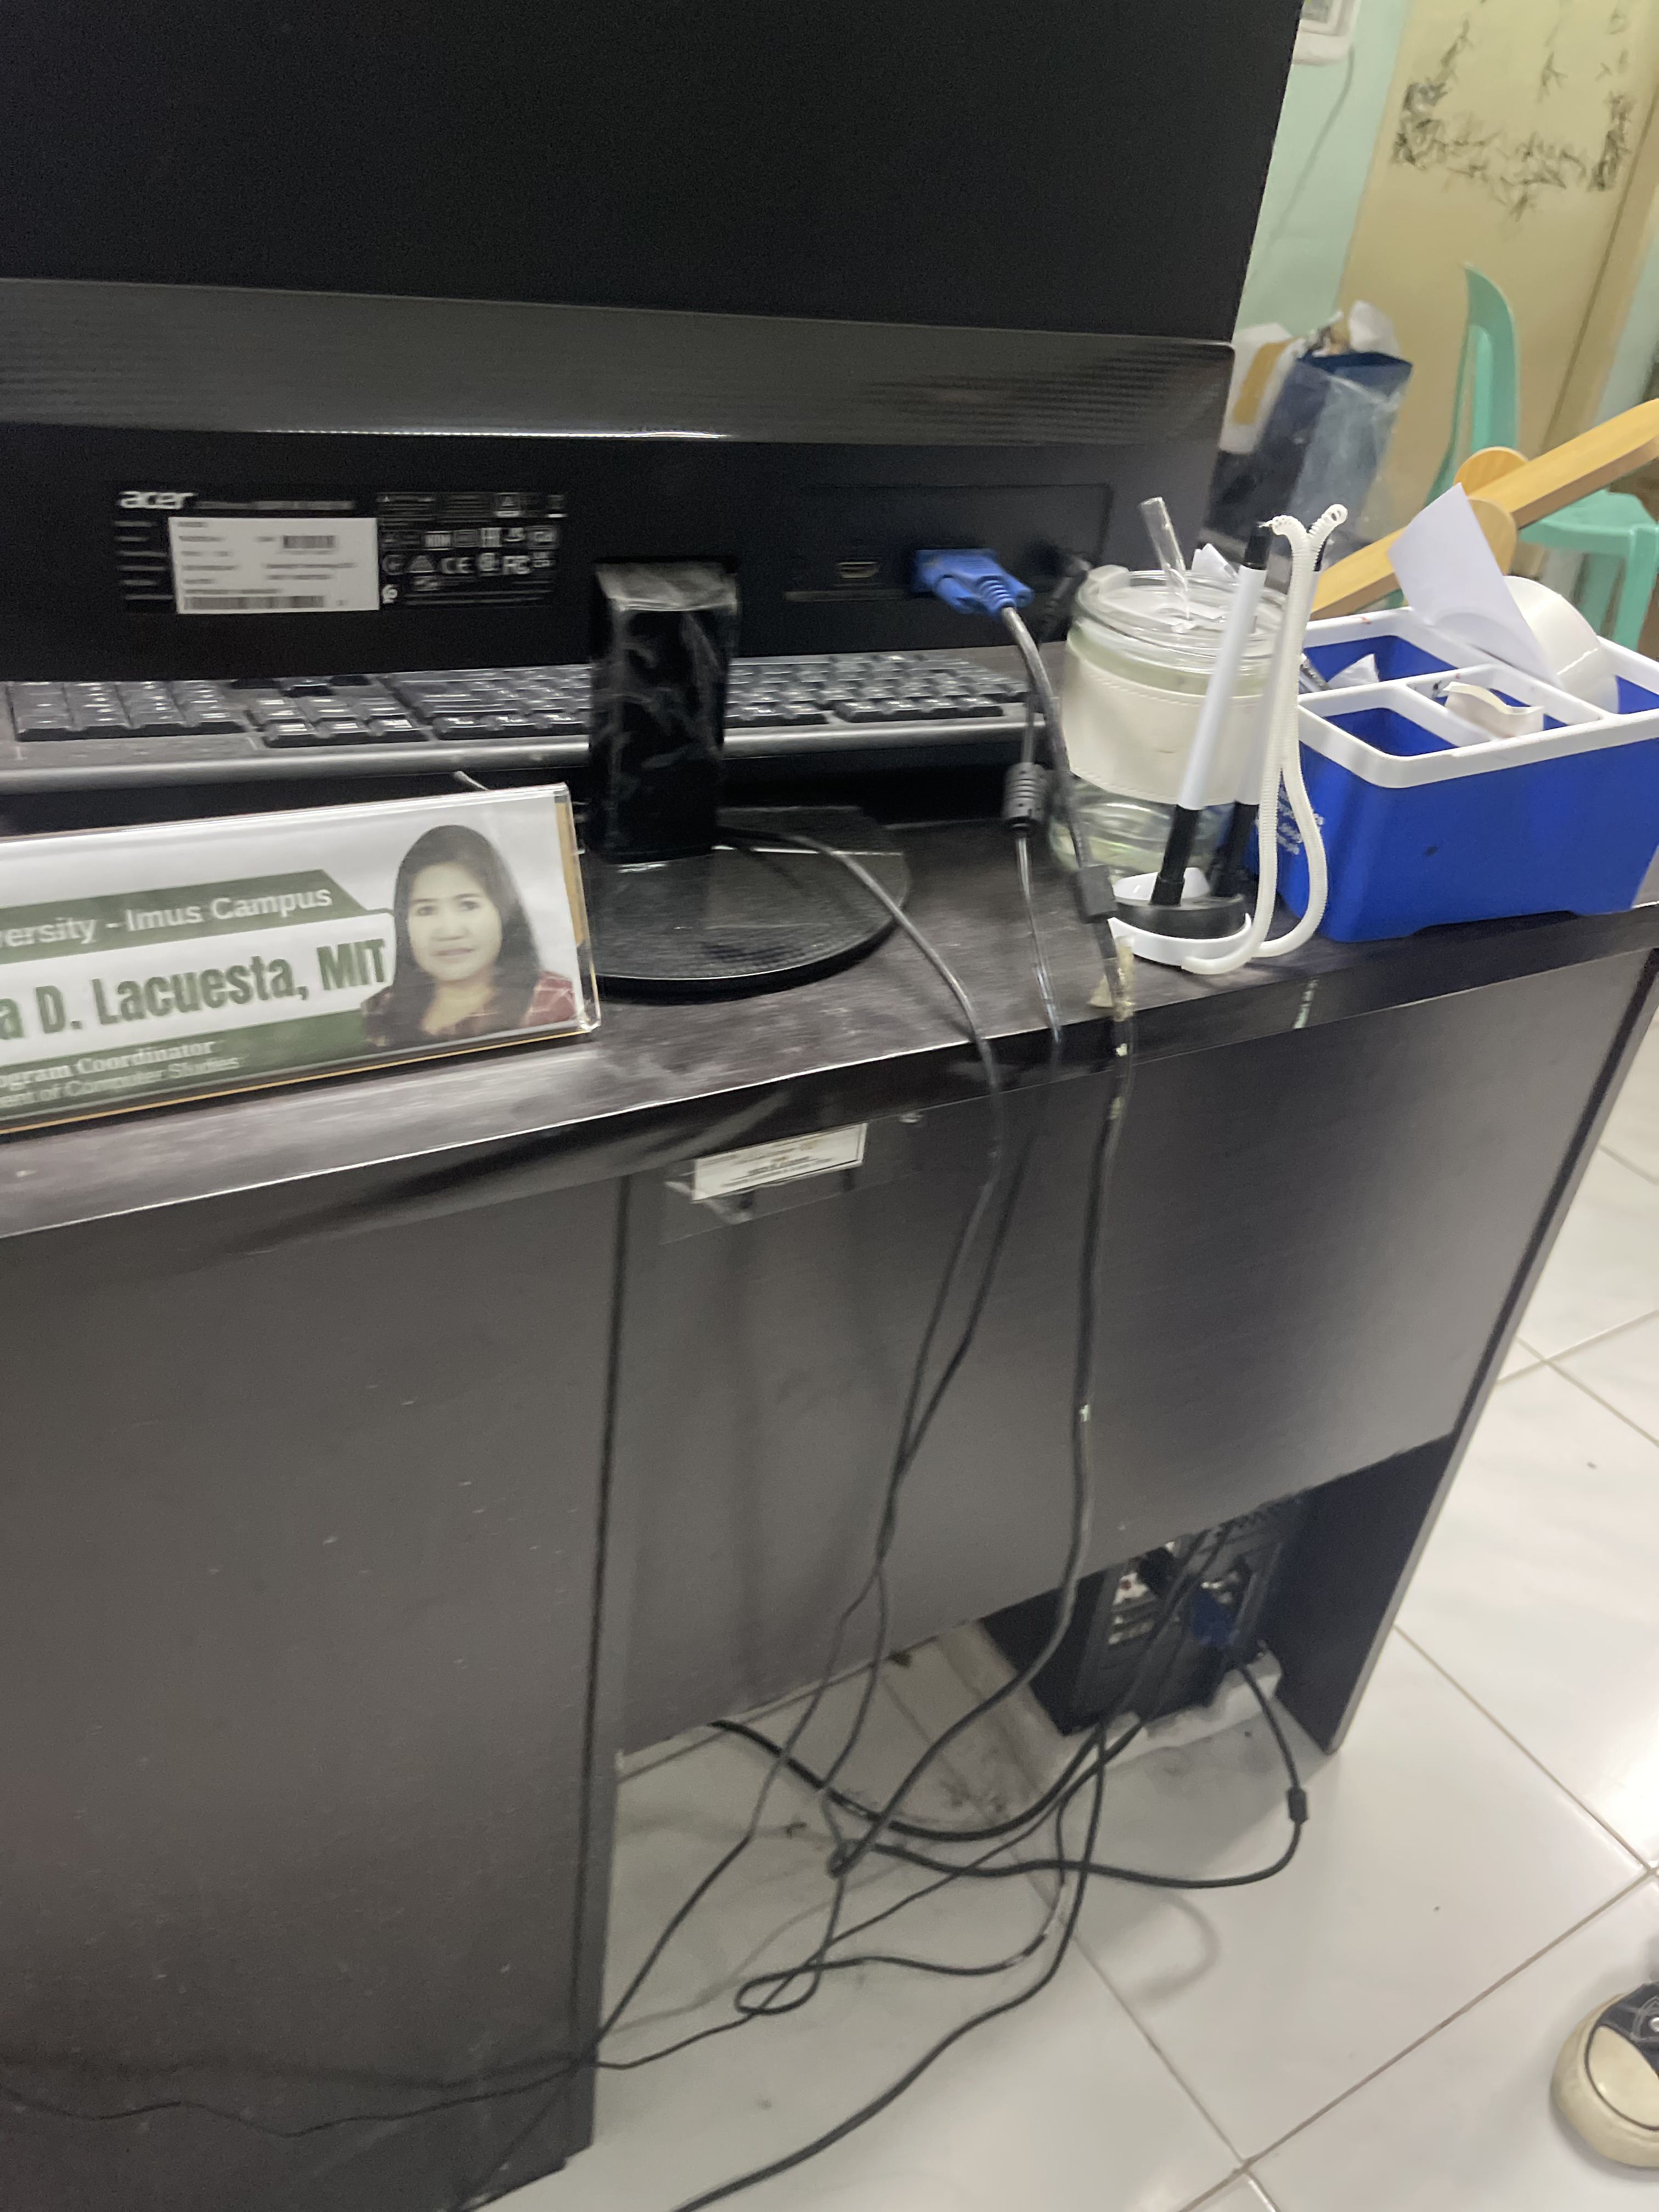table1: (17, 721, 1659, 2212)
